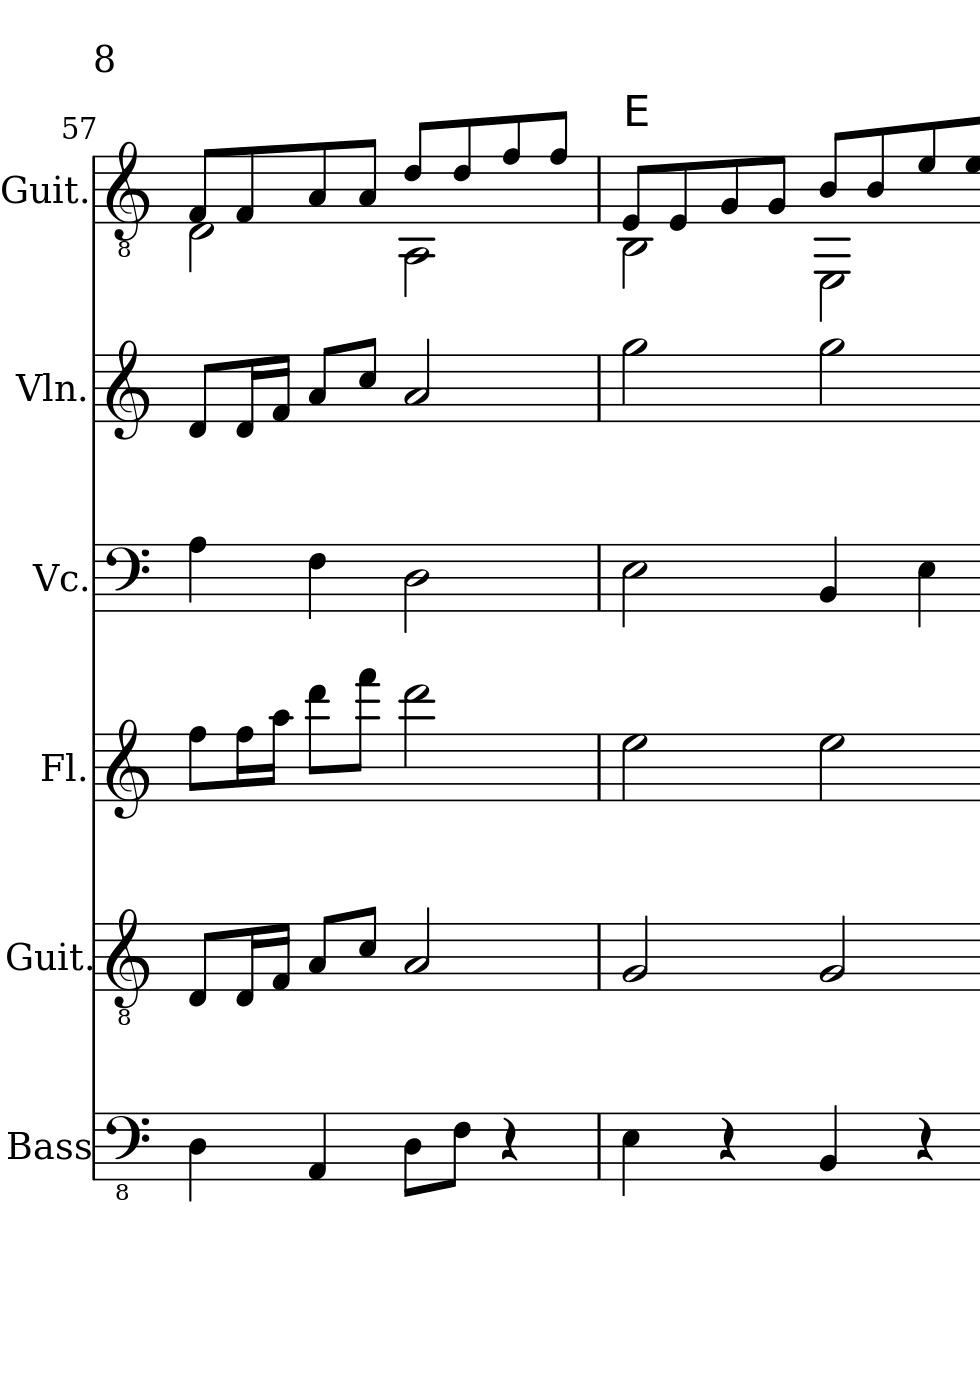16_-1: (232, 352, 261, 440), (232, 922, 261, 1008)
16_1: (269, 353, 291, 425), (270, 922, 291, 993)
16_10: (263, 708, 292, 804)
16_8: (234, 726, 255, 803)
2_13: (398, 684, 433, 805)
2_2: (619, 913, 650, 992), (818, 913, 847, 992)
2_3: (402, 337, 431, 423), (402, 906, 431, 992)
2_4: (402, 543, 430, 633)
2_5: (619, 542, 646, 629)
2_7: (817, 730, 846, 803), (620, 731, 648, 803)
2_9: (818, 337, 846, 425), (619, 337, 648, 424)
4_1: (307, 1111, 328, 1182)
4_2: (818, 1102, 840, 1183), (819, 534, 840, 613)
4_4: (186, 1111, 208, 1203)
4_5: (619, 1111, 641, 1199), (916, 542, 937, 630)
4_6: (305, 542, 326, 622)
4_8: (186, 536, 207, 614)
8: (93, 41, 115, 75)
8_-1: (186, 353, 215, 440), (186, 922, 215, 1008)
8_0: (622, 154, 647, 232), (666, 153, 690, 233)
8_1: (190, 146, 218, 223), (232, 144, 256, 225)
8_13: (304, 683, 330, 805)
8_15: (349, 667, 379, 802)
8_2: (718, 154, 740, 226), (765, 154, 787, 226)
8_3: (307, 344, 335, 424), (307, 913, 335, 993), (305, 140, 328, 225), (356, 137, 377, 226)
8_4: (817, 130, 845, 227), (864, 126, 886, 226), (401, 1111, 422, 1200)
8_5: (356, 336, 378, 423), (356, 905, 378, 992)
8_6: (403, 119, 430, 228), (450, 116, 474, 226), (443, 1111, 470, 1190)
8_7: (916, 121, 937, 225)
8_8: (547, 111, 568, 225), (500, 115, 521, 225), (186, 725, 208, 803)
Bass: (4, 1127, 92, 1166)
Fclef: (104, 542, 150, 613)
Fl: (37, 748, 78, 787)
Gclef: (104, 339, 151, 441), (105, 717, 148, 821)
Guit: (4, 936, 84, 979), (1, 170, 80, 211)
Lower_Fclef: (103, 1111, 151, 1203)
Lower_Gclef: (105, 139, 152, 259), (105, 907, 151, 1027)
Rests4: (716, 1115, 738, 1161), (497, 1116, 519, 1163), (913, 1115, 934, 1162)
Single_barline: (590, 544, 609, 611), (590, 734, 609, 801), (590, 1113, 608, 1180), (591, 355, 608, 421), (87, 923, 103, 992), (591, 923, 607, 990), (87, 155, 102, 225), (591, 157, 607, 222), (87, 733, 102, 801), (87, 355, 102, 422), (87, 545, 101, 612), (88, 1113, 101, 1180)
Vln: (14, 367, 77, 410)
